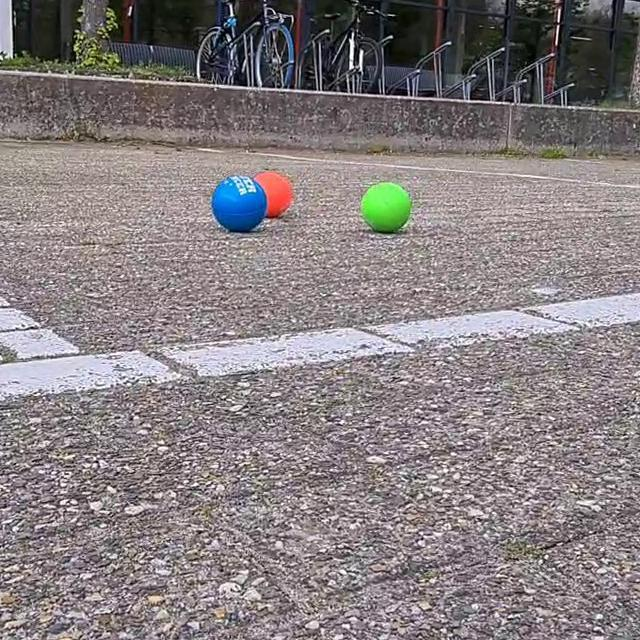ball: (212, 173, 270, 235), (360, 180, 415, 233)
